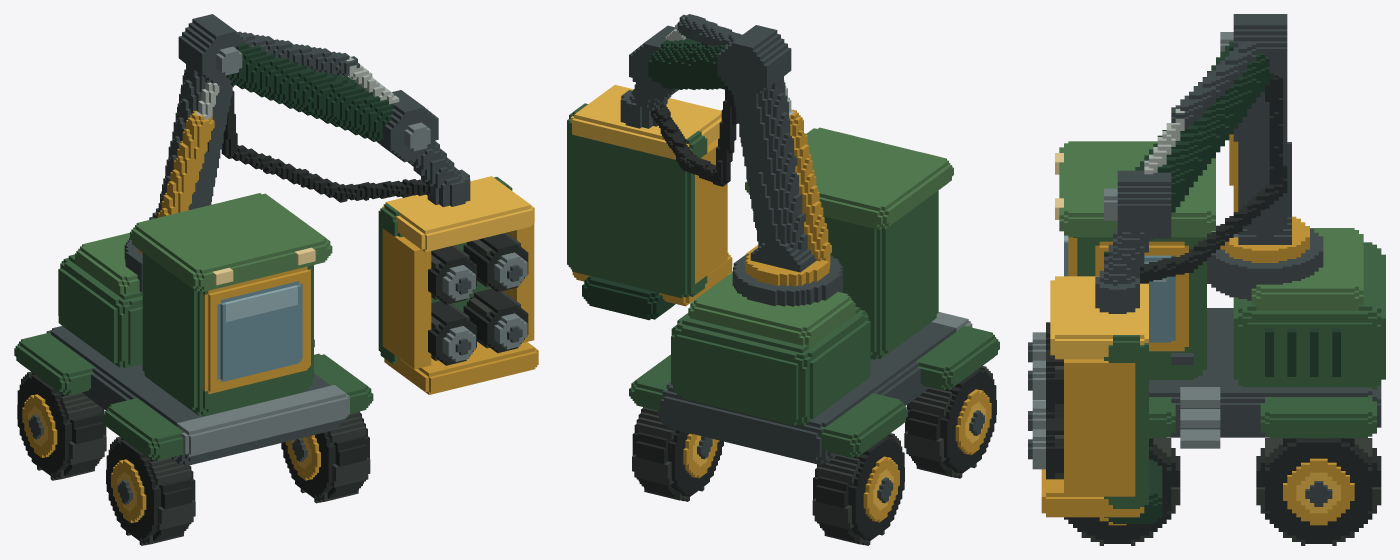
Rendered from logging_harvester.glb.
3 renders of one model, left to right at view 1: azimuth 30°, elevation 25°; view 2: azimuth 150°, elevation 25°; view 3: azimuth 270°, elevation 25°, orthographic. The views are drawn at different scales.
Visible parts, largest first — view 1: logging_harvester; view 2: logging_harvester; view 3: logging_harvester.
Boxes of the visible parts, bbox=[...] form: logging_harvester: bbox=[14, 14, 538, 545]; logging_harvester: bbox=[567, 14, 999, 545]; logging_harvester: bbox=[1028, 14, 1385, 545].
Bounding box in the file's own units: 5.65 × 6.05 × 4.
